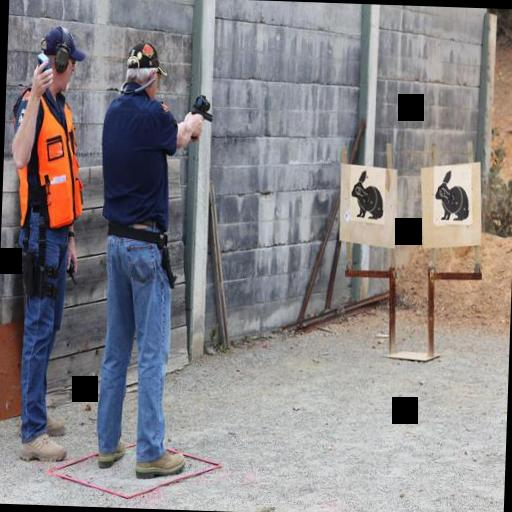Handgun: (182, 84, 216, 132)
